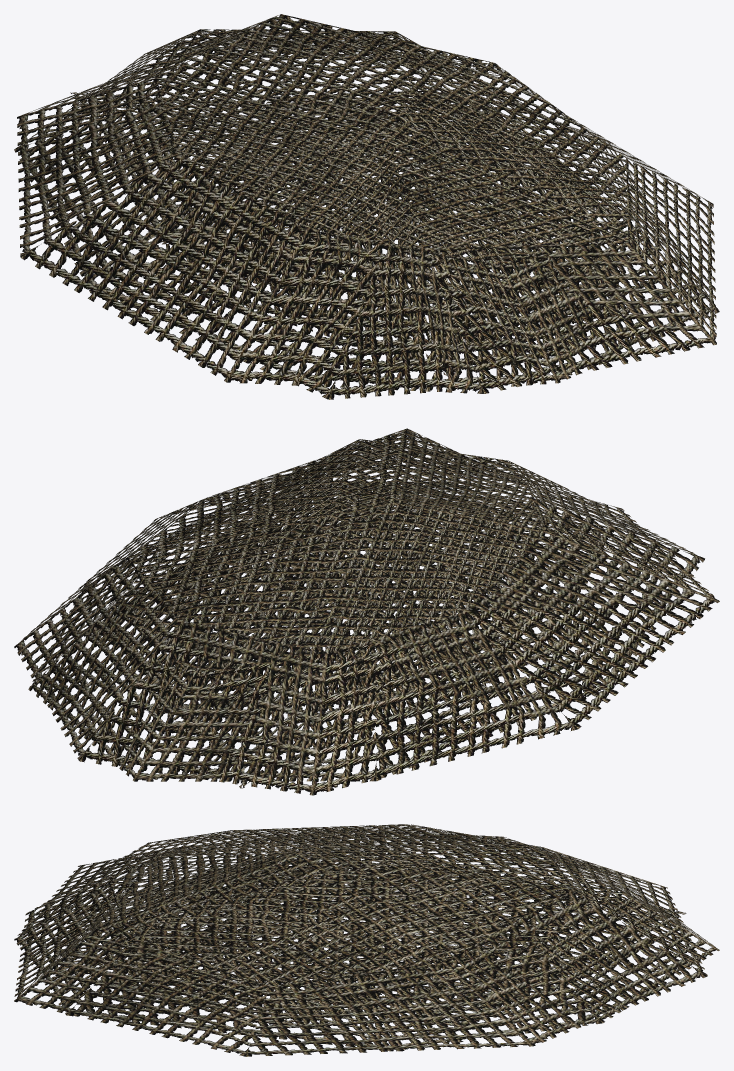
The model's file is NW_HARBOUR_FISHINGNETBIG.glb.
The picture shows the model from 3 angles, top to bottom: view 1: azimuth 30°, elevation 25°; view 2: azimuth 150°, elevation 25°; view 3: azimuth 270°, elevation 25°; orthographic projection. The views are drawn at different scales.
Visible parts, largest first — view 1: Mesh; view 2: Mesh; view 3: Mesh.
Part boxes in pixels (x1,y1,x2,y2): Mesh: [14, 14, 719, 399]; Mesh: [14, 428, 719, 795]; Mesh: [14, 824, 719, 1056].
Size of the model in its own units: 2.33 by 0.4337 by 3.09.
Materials: 1 (1 with a texture image).
